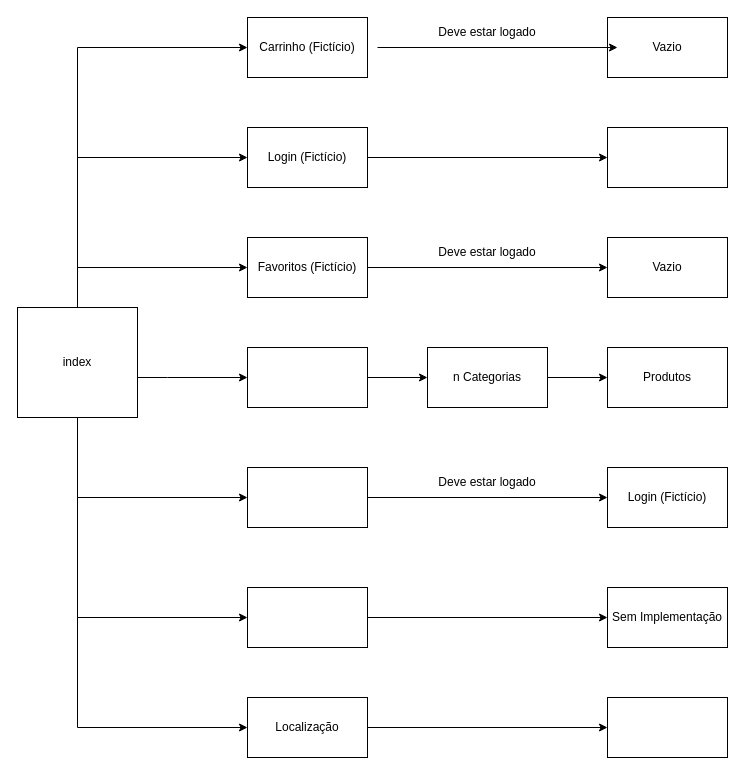
The diagram is 745 pixels wide and 775 high, and some of its shapes have lost their labels. Here are the shapes that lost their labels. From the top down, the centre of each, then its label:
At pixel 667 157: "Formulário".
At pixel 307 377: "Departamentos".
At pixel 307 497: "Configurações de conta (fictício)".
At pixel 307 617: "Pesquisa".
At pixel 667 727: "Lugares reais".
